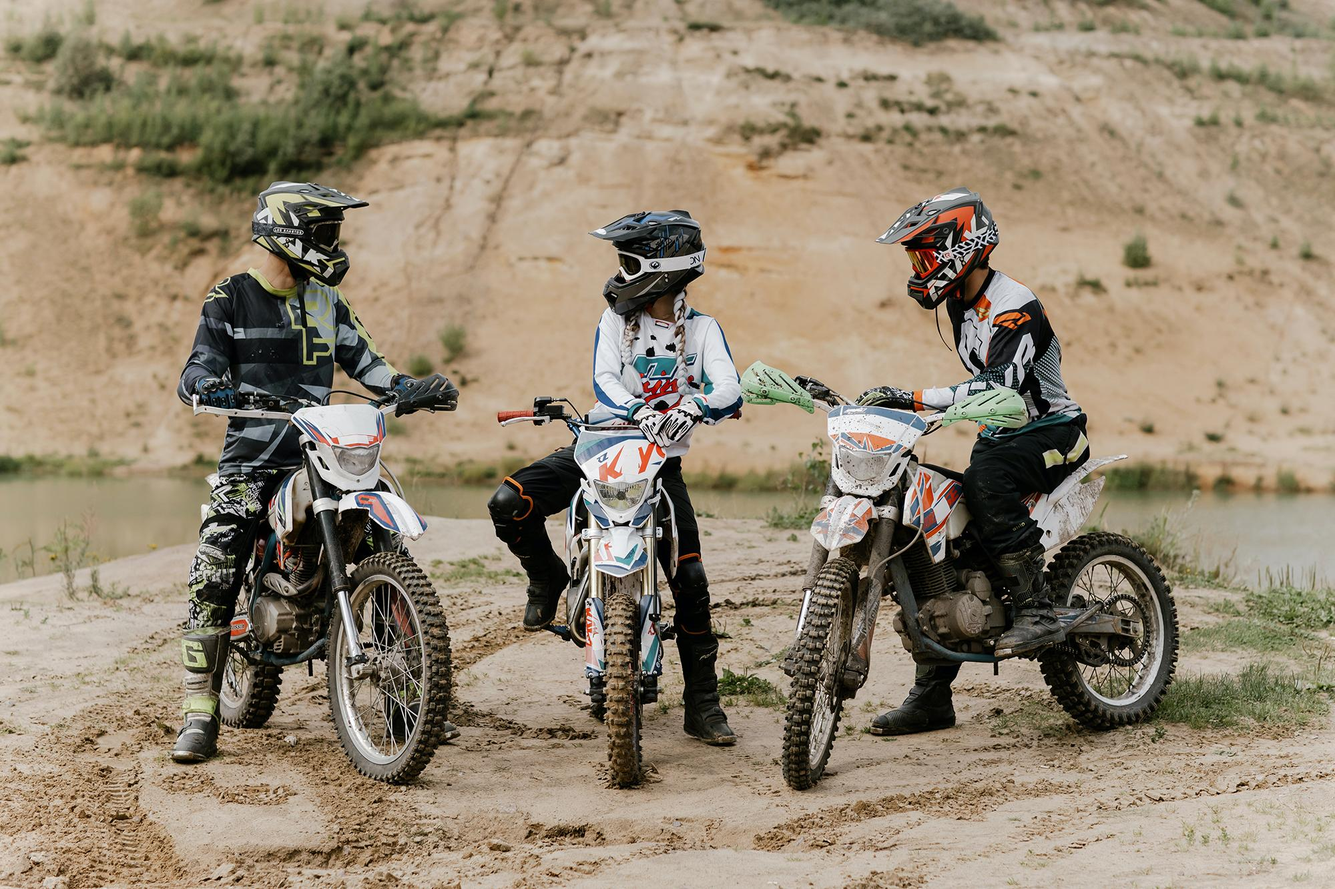helmet: (874, 185, 1000, 311), (587, 208, 707, 317), (251, 179, 370, 288)
